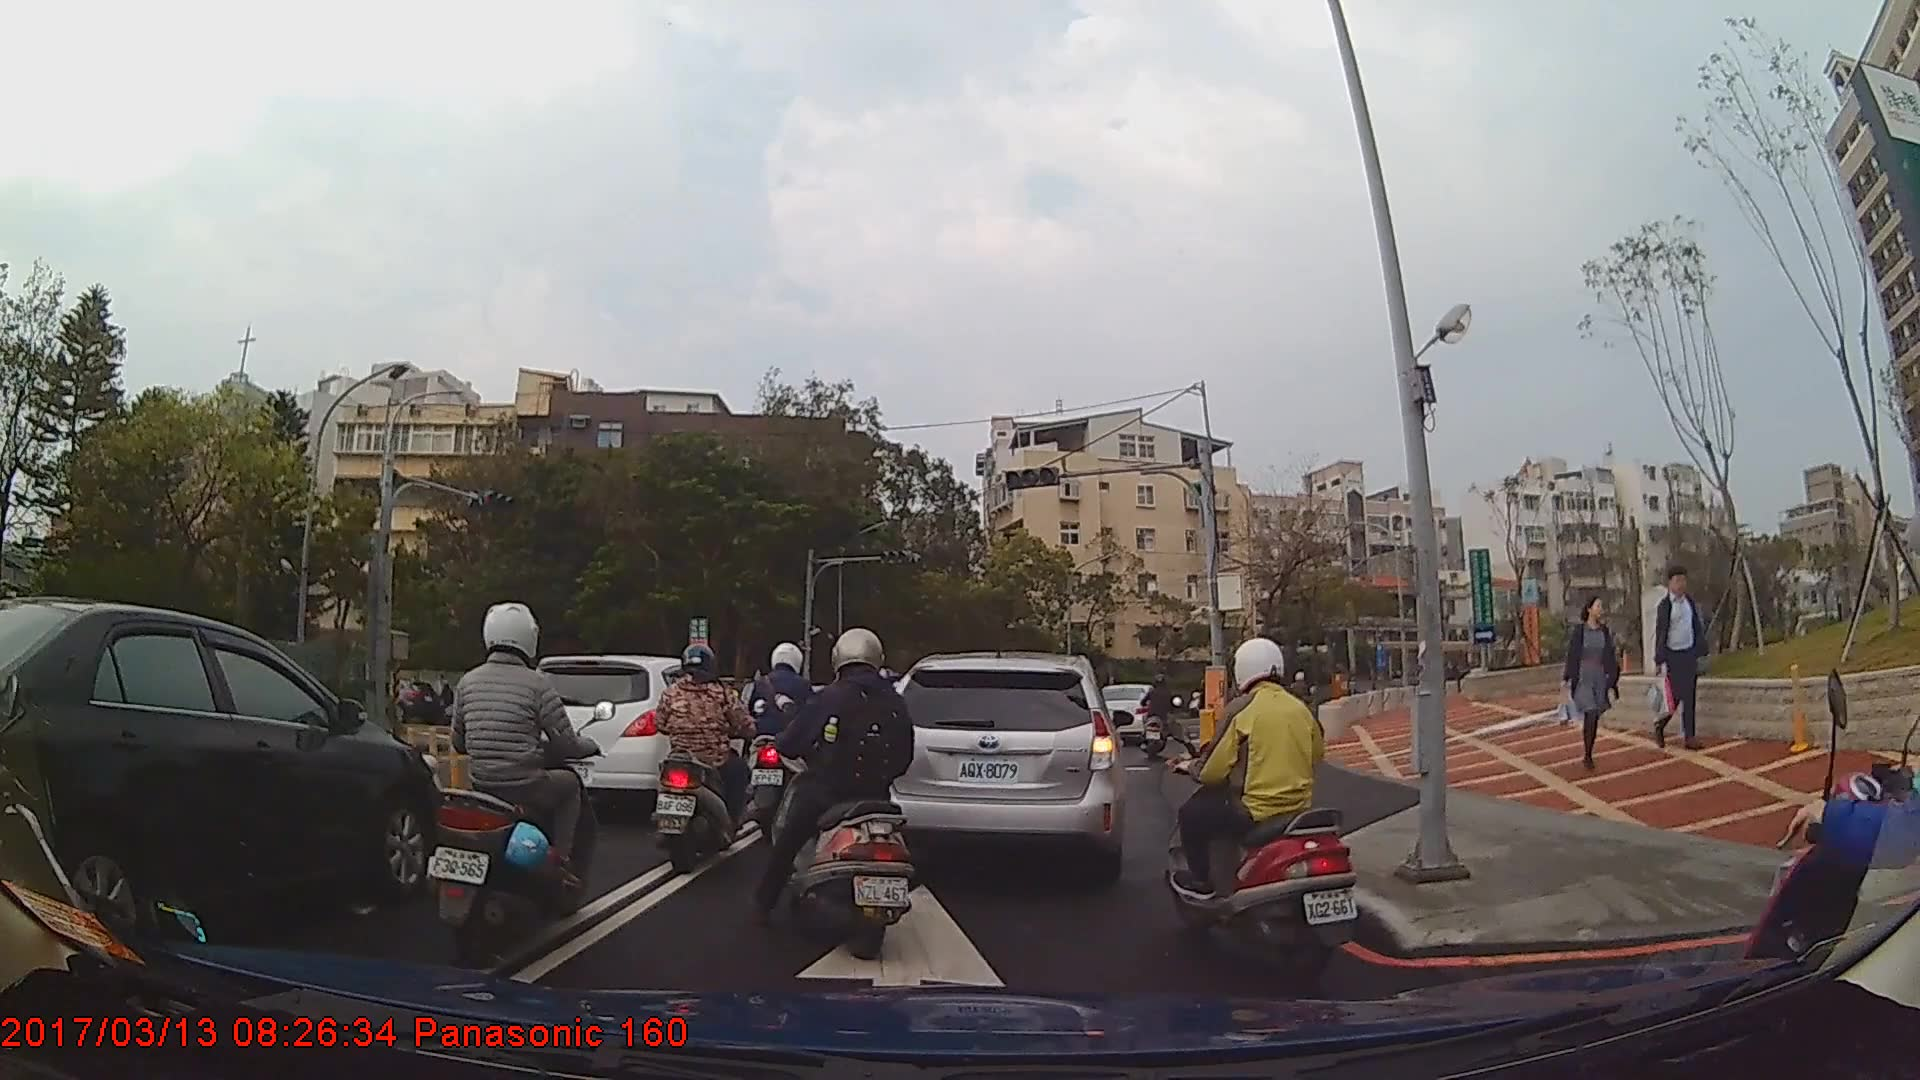pedestrian: (1553, 597, 1620, 772), (1650, 569, 1711, 753)
rider: (1161, 639, 1365, 982), (425, 602, 605, 959), (766, 628, 919, 964), (649, 645, 757, 876), (740, 637, 830, 843), (1139, 672, 1175, 760)
vehicle: (0, 596, 444, 953), (865, 651, 1124, 880), (510, 654, 757, 820), (361, 679, 439, 725)
